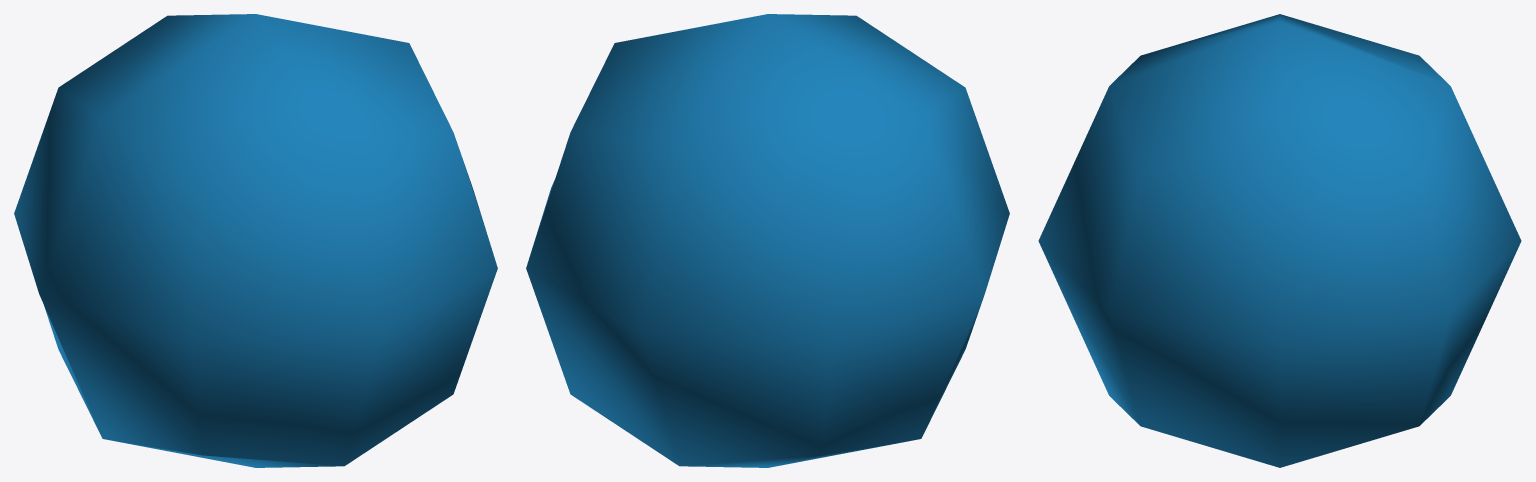
Rendered from LowPolyBall.fbx.
3 views of the same model, side by side, from view 1: azimuth 30°, elevation 25°; view 2: azimuth 150°, elevation 25°; view 3: azimuth 270°, elevation 25° (orthographic). The views are drawn at different scales.
Parts seen in each view (by area): view 1: HandBall; view 2: HandBall; view 3: HandBall.
Part boxes in pixels (x1,y1,x2,y2): HandBall: (14, 14, 497, 467); HandBall: (526, 14, 1009, 467); HandBall: (1038, 14, 1521, 467).
Size of the model in its own units: 43.3 by 43.3 by 43.3.
